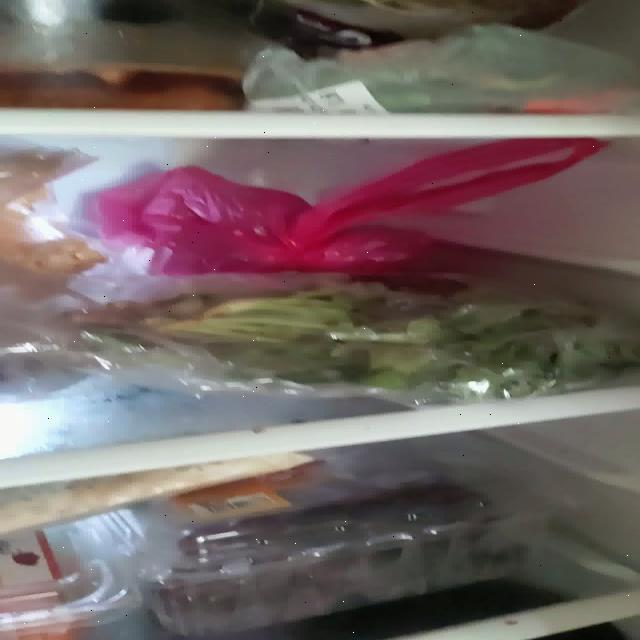leafy_greens: (62, 281, 640, 405)
unknown_bag: (80, 140, 604, 274)
